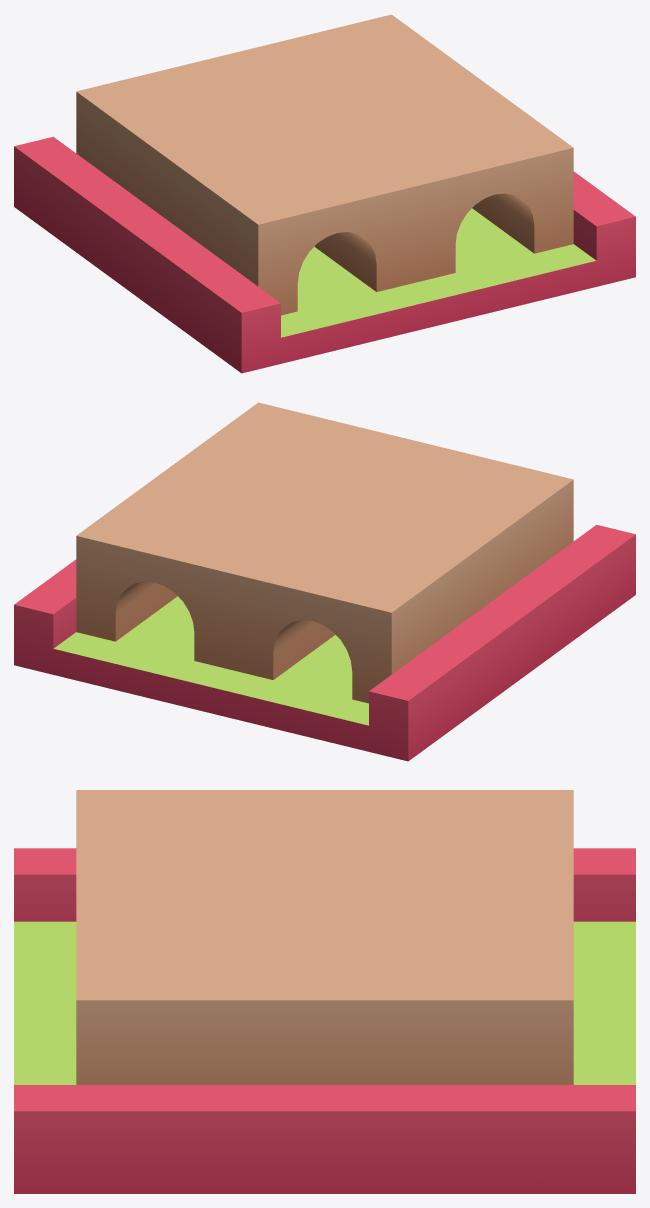
The model's file is tunnel-double.fbx.
The picture shows the model from 3 angles, top to bottom: view 1: azimuth 30°, elevation 25°; view 2: azimuth 150°, elevation 25°; view 3: azimuth 270°, elevation 25°; orthographic projection. The views are drawn at different scales.
Visible parts, largest first — view 1: tunnel_double; view 2: tunnel_double; view 3: tunnel_double.
Boxes of the visible parts, x1,y1,x2,y2 form: tunnel_double: [14, 14, 635, 373]; tunnel_double: [14, 402, 635, 761]; tunnel_double: [14, 790, 635, 1193].
Bounding box in the file's own units: 99.99 × 29.66 × 99.99.
